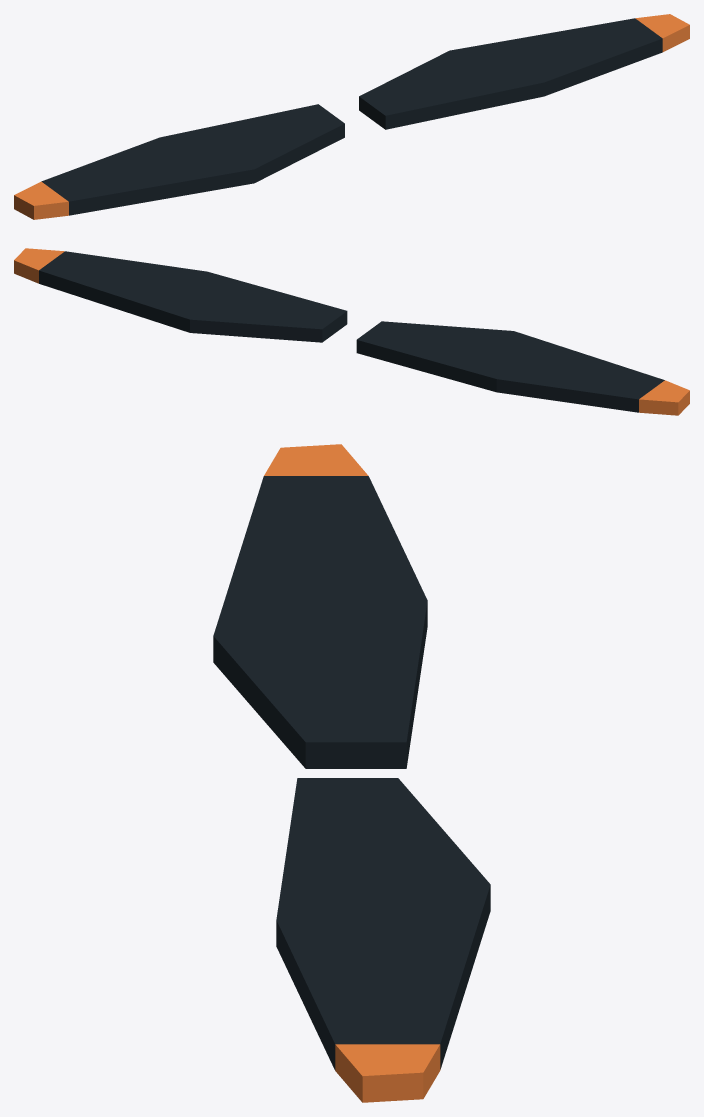
File: mavic_rotor.dae
The picture shows the model from 3 angles, top to bottom: view 1: azimuth 30°, elevation 25°; view 2: azimuth 150°, elevation 25°; view 3: azimuth 270°, elevation 25°; orthographic projection. The views are drawn at different scales.
Visible parts, largest first — view 1: drone-prop-node, drone-tip-node; view 2: drone-prop-node, drone-tip-node; view 3: drone-prop-node, drone-tip-node.
Part boxes in pixels (x1,y1,x2,y2): drone-prop-node: [41, 18, 662, 215]; drone-tip-node: [14, 14, 689, 219]; drone-prop-node: [39, 251, 664, 412]; drone-tip-node: [14, 248, 689, 415]; drone-prop-node: [213, 476, 490, 1070]; drone-tip-node: [264, 444, 440, 1102].
Bounding box in the file's own units: 35.6 × 6.6 × 0.7.
